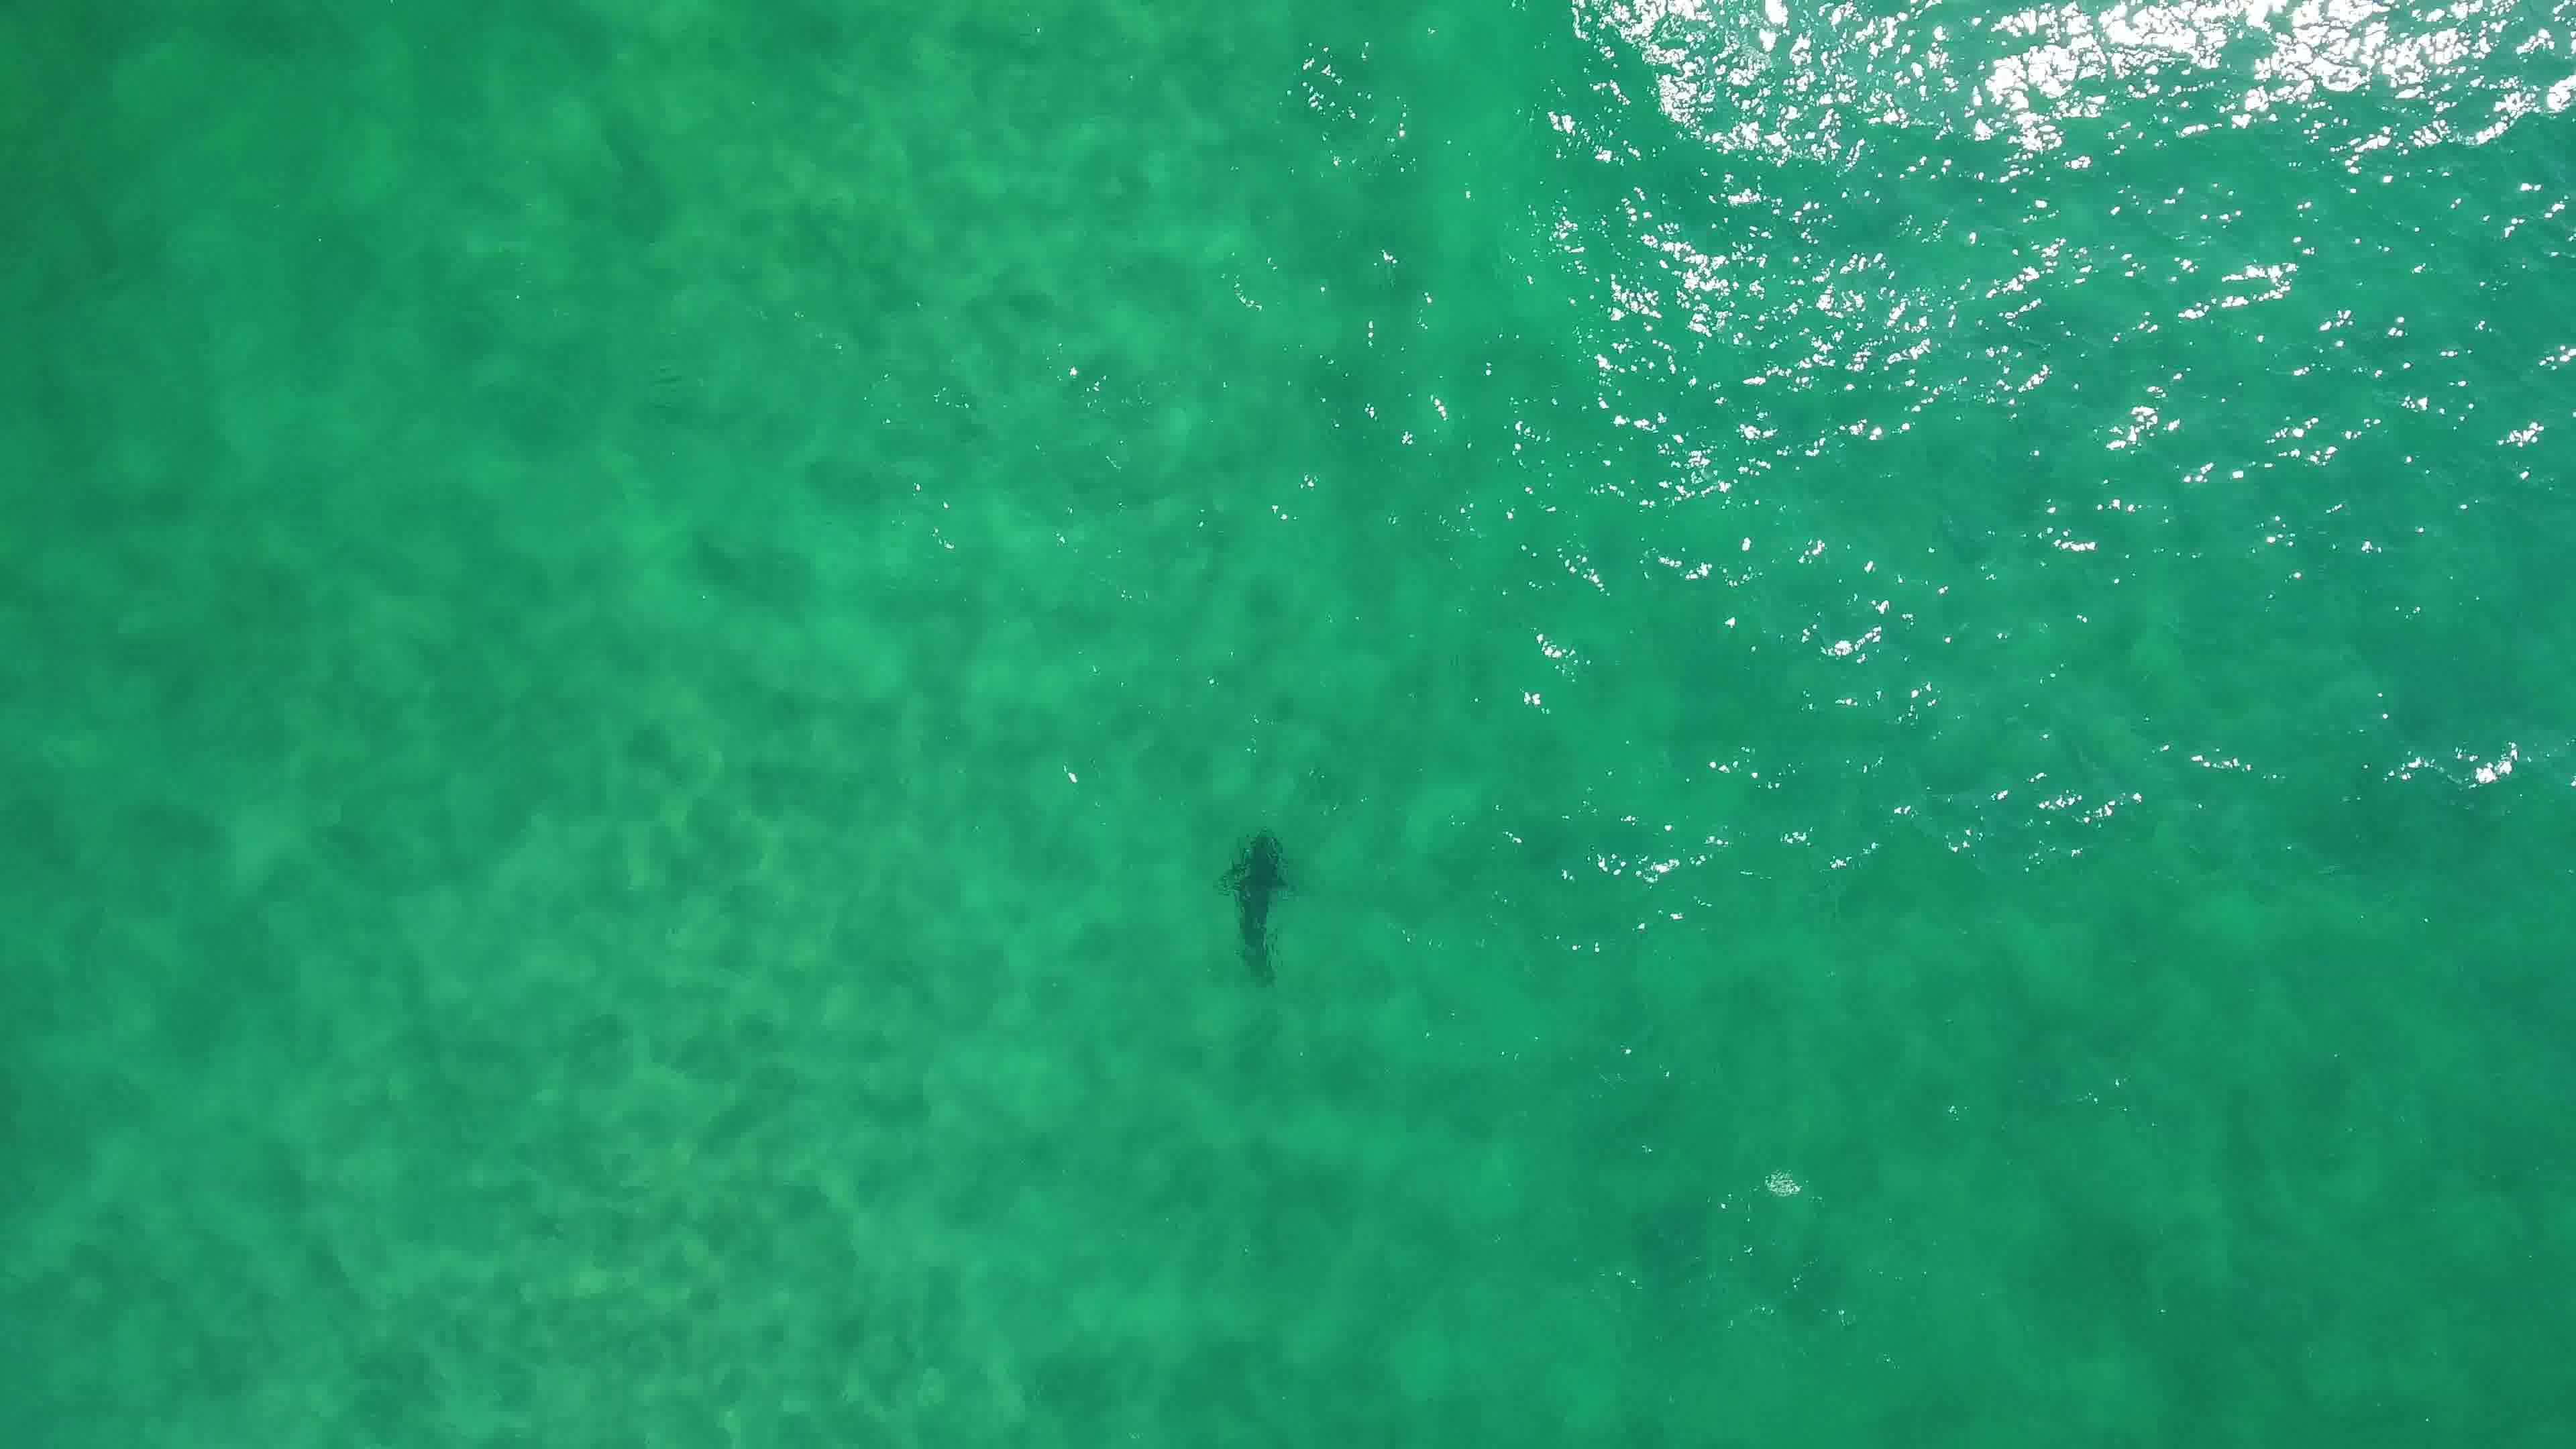shark: (1215, 824, 1300, 993)
